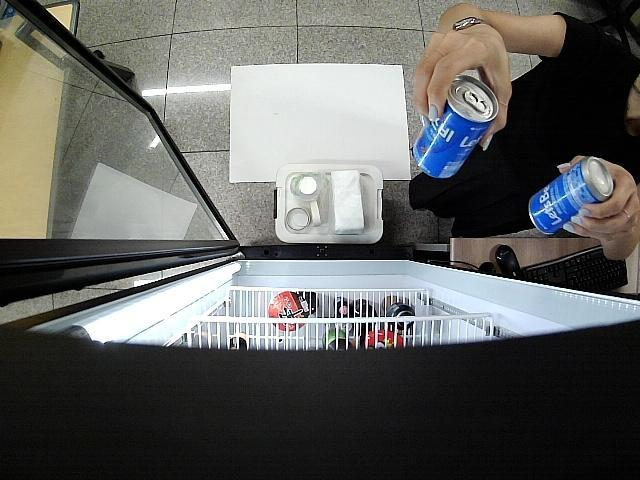15_letsbe: (411, 74, 498, 179), (525, 156, 615, 234)
